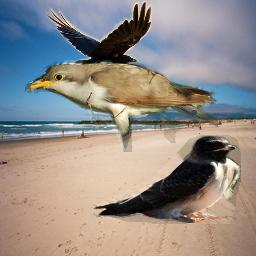Crow: (45, 1, 153, 77)
Cuckoo: (25, 60, 218, 152)
Swallow: (91, 135, 241, 224)
